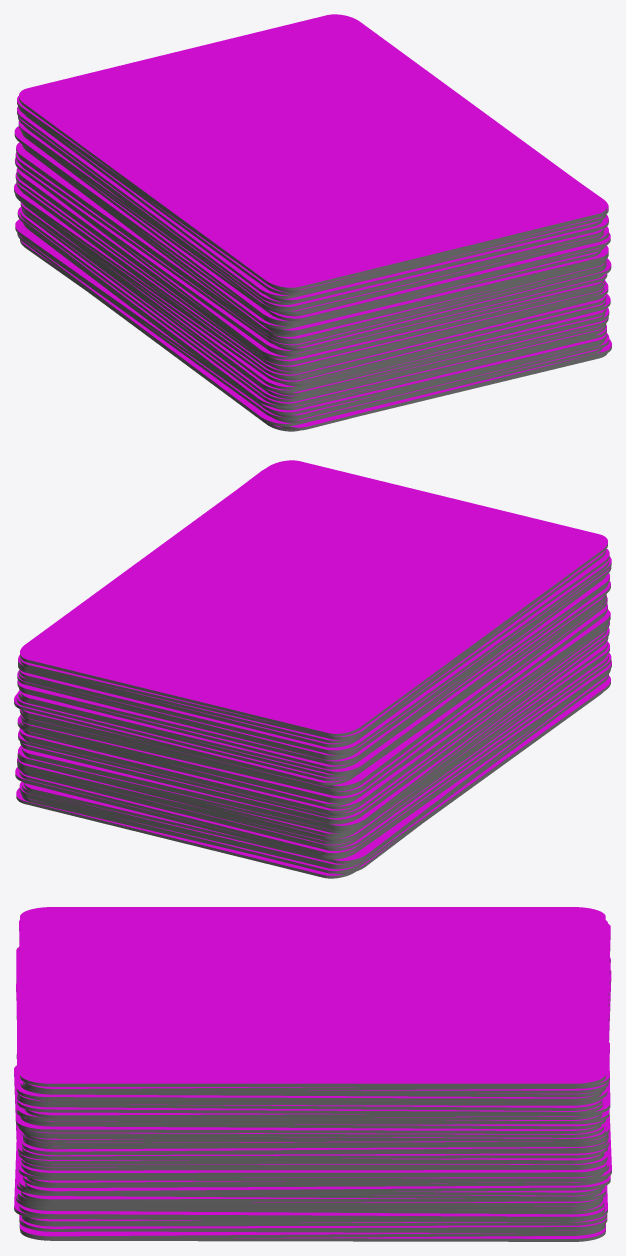
The model's file is deck.fbx.
3 views of the same model, one above another, from view 1: azimuth 30°, elevation 25°; view 2: azimuth 150°, elevation 25°; view 3: azimuth 270°, elevation 25° (orthographic). The views are drawn at different scales.
Visible parts, largest first — view 1: Card, Card.017, Card.010, Card.006, Card.038, Card.024, Card.045, Card.041, Card.026, Card.031, Card.003, Card.019 (+36 smaller); view 2: Card, Card.005, Card.012, Card.021, Card.042, Card.039, Card.045, Card.011, Card.017, Card.030, Card.028, Card.003 (+35 smaller); view 3: Card, Card.040, Card.004, Card.032, Card.046, Card.014, Card.027, Card.044, Card.020, Card.008, Card.022, Card.035 (+36 smaller).
Boxes of the visible parts, x1,y1,x2,y2 form: Card: (19, 14, 606, 290); Card.017: (16, 142, 606, 341); Card.010: (22, 132, 610, 321); Card.006: (18, 116, 604, 309); Card.038: (20, 207, 605, 406); Card.024: (17, 168, 605, 363); Card.045: (17, 233, 602, 426); Card.041: (23, 223, 606, 415); Card.026: (15, 172, 604, 369); Card.031: (15, 194, 605, 384); Card.003: (18, 107, 602, 298); Card.019: (15, 152, 606, 347); Card: (20, 460, 607, 736); Card.005: (19, 559, 609, 753); Card.012: (21, 583, 608, 774); Card.021: (21, 603, 607, 801); Card.042: (24, 689, 587, 863); Card.039: (19, 660, 611, 855); Card.045: (20, 676, 610, 873); Card.011: (19, 573, 609, 769); Card.017: (21, 594, 606, 788); Card.030: (22, 661, 575, 828); Card.028: (20, 630, 606, 822); Card.003: (18, 549, 609, 746); Card: (20, 907, 605, 1086); Card.040: (19, 1195, 605, 1219); Card.004: (16, 941, 602, 1101); Card.032: (25, 1175, 610, 1194); Card.046: (14, 1065, 605, 1239); Card.014: (16, 1056, 601, 1133); Card.027: (21, 1161, 606, 1175); Card.044: (21, 1217, 607, 1231); Card.020: (16, 983, 607, 1154); Card.008: (17, 1098, 602, 1114); Card.022: (22, 1145, 607, 1159); Card.035: (21, 1186, 606, 1202).
Size of the model in its own units: 517 by 206 by 715.
